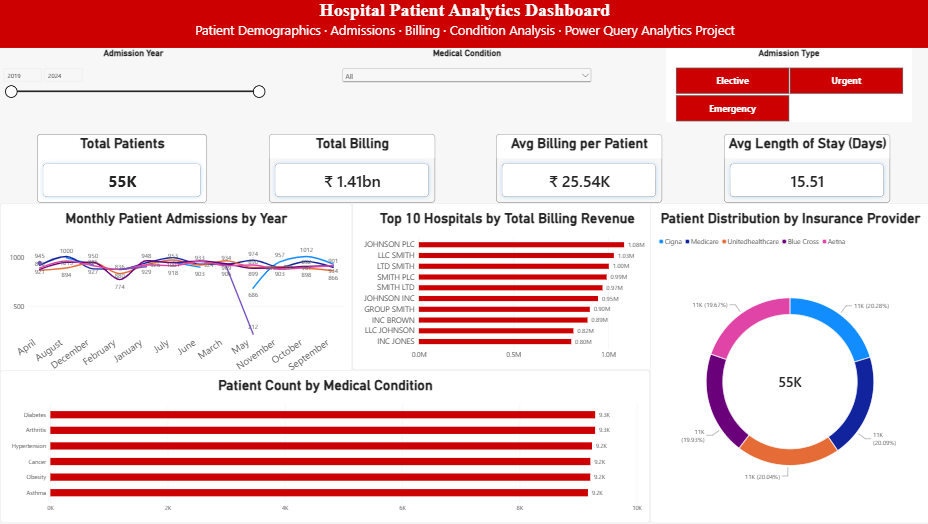

What the dashboard file says about the page in this screenshot:
{"tool":"powerbi","page":{"name":"Hospital Patient Analytics","canvas":[1920,1080],"ordinal":1},"visuals":[{"type":"textbox","box":[0,0,1920,99.1],"z":0},{"type":"cardVisual","title":"Total Patients","fields":{"Data":["CountNonNull(healthcare_dataset.Patient_ID)"]},"box":[76.4,276.6,351,142.5],"z":1000},{"type":"cardVisual","title":"Total Billing","fields":{"Data":["Sum(healthcare_dataset.Billing_Amount_Fixed)"]},"box":[555.4,276.6,342.7,142.5],"z":2000},{"type":"cardVisual","title":"Avg Billing per Patient","fields":{"Data":["Avg(healthcare_dataset.Billing_Amount_Fixed)"]},"box":[1024,276.6,342.7,142.5],"z":3000},{"type":"cardVisual","title":"Avg Length of Stay (Days)","fields":{"Data":["Avg(healthcare_dataset.Length_of_Stay_Days)"]},"box":[1494.7,276.6,342.7,142.5],"z":4000},{"type":"clusteredBarChart","title":"Top 10 Hospitals by Total Billing Revenue","fields":{"Category":["Hospital_Summary.Hospital"],"Y":["Sum(Hospital_Summary.Total_Revenue)"]},"box":[726.7,419.1,640,344.8],"z":6000},{"type":"lineChart","title":"Monthly Patient Admissions by Year","fields":{"Category":["Monthly_Admissions.Admission_Month"],"Series":["Monthly_Admissions.Admission_Year"],"Y":["Sum(Monthly_Admissions.Monthly_Count)"]},"box":[0,419.1,726.7,415],"z":7000},{"type":"donutChart","title":"Patient Distribution by Insurance Provider","fields":{"Category":["Insurance_Summary.Insurance Provider"],"Y":["Sum(Insurance_Summary.Covered_Patients)"]},"box":[1341.9,419.1,578.1,660.6],"z":8000},{"type":"slicer","title":"Admission Type","fields":{"Values":["healthcare_dataset.Admission Type"]},"box":[1375,99.1,507.9,152.8],"z":9000},{"type":"slicer","title":"Medical Condition","fields":{"Values":["healthcare_dataset.Medical Condition"]},"box":[700.9,99.1,524.4,146.6],"z":10000},{"type":"slicer","title":"Admission Year","fields":{"Values":["healthcare_dataset.Admission_Year"]},"box":[0,99.1,551.2,146.6],"z":11000},{"type":"clusteredBarChart","title":"Patient Count by Medical Condition","fields":{"Category":["Condition_Summary.Medical Condition"],"Y":["Sum(Condition_Summary.Patient_Count)"]},"box":[0,763.9,1341.9,315.9],"z":11500}]}

Visuals, with their boxes in screenshot pixels (x1, y1, x2, y2), scaled from the page's 1920x1080 canvas onto the 928x524 screenshot:
textbox: {"left": 0, "top": 0, "right": 927, "bottom": 48}
"Total Patients" cardVisual: {"left": 37, "top": 134, "right": 207, "bottom": 203}
"Total Billing" cardVisual: {"left": 268, "top": 134, "right": 434, "bottom": 203}
"Avg Billing per Patient" cardVisual: {"left": 495, "top": 134, "right": 661, "bottom": 203}
"Avg Length of Stay (Days)" cardVisual: {"left": 722, "top": 134, "right": 888, "bottom": 203}
"Top 10 Hospitals by Total Billing Revenue" clusteredBarChart: {"left": 351, "top": 203, "right": 661, "bottom": 371}
"Monthly Patient Admissions by Year" lineChart: {"left": 0, "top": 203, "right": 351, "bottom": 405}
"Patient Distribution by Insurance Provider" donutChart: {"left": 649, "top": 203, "right": 927, "bottom": 523}
"Admission Type" slicer: {"left": 665, "top": 48, "right": 910, "bottom": 122}
"Medical Condition" slicer: {"left": 339, "top": 48, "right": 592, "bottom": 119}
"Admission Year" slicer: {"left": 0, "top": 48, "right": 266, "bottom": 119}
"Patient Count by Medical Condition" clusteredBarChart: {"left": 0, "top": 371, "right": 649, "bottom": 523}
